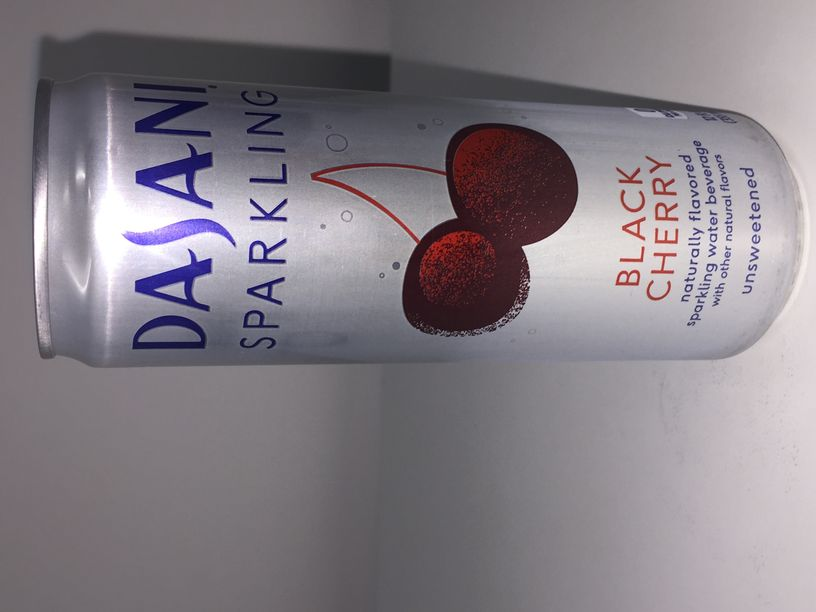blackcherry: (34, 72, 804, 368)
